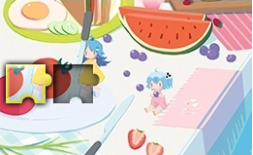gap: (53, 64, 101, 104)
